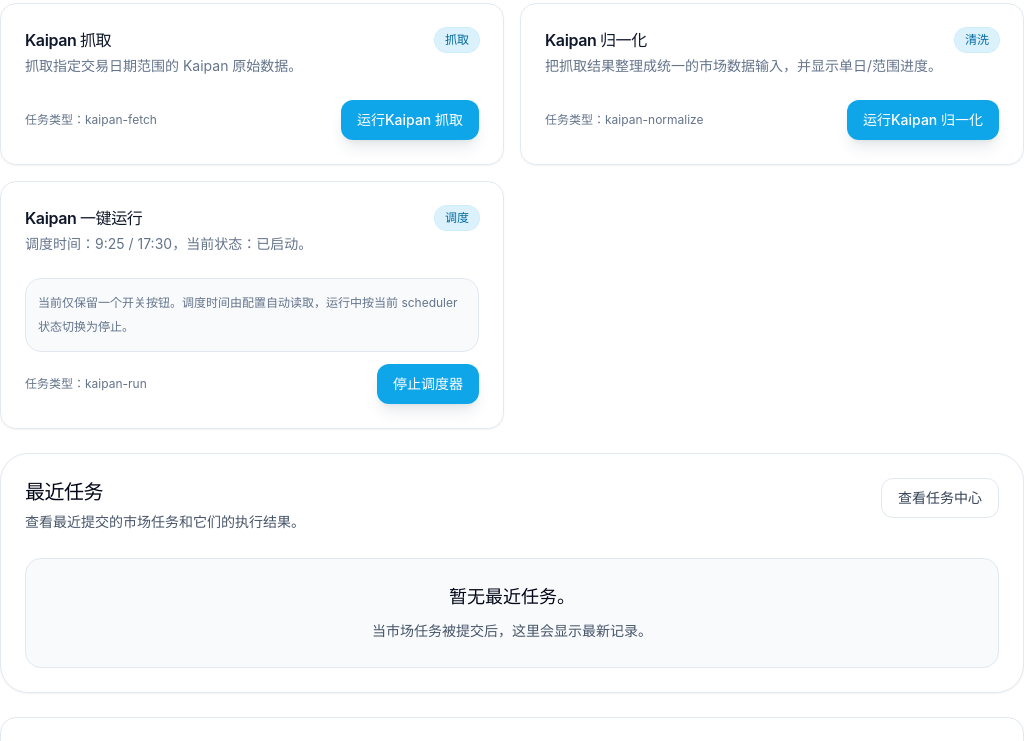
MarketWorkspaceShell › renders the kaipan scheduler stop state and can stop scheduler
(page scrolled)
Click the button "停止调度器" at (428, 384), box [377,364,479,404]
(page scrolled)
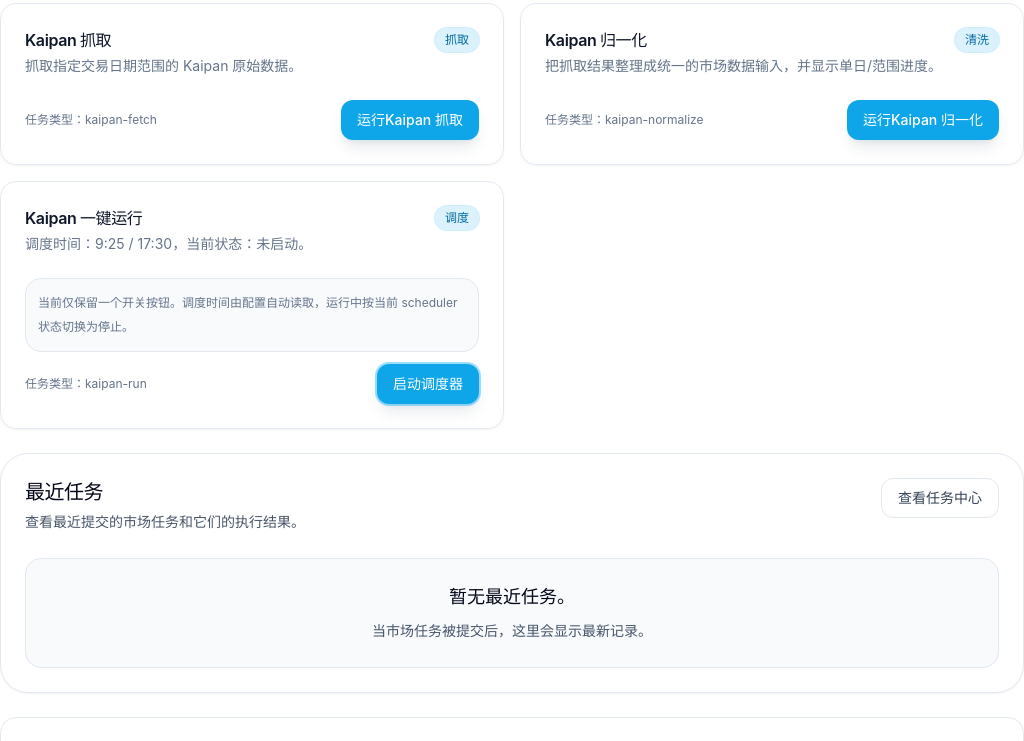
Expected: the button "启动调度器" is shown, [377,364,479,404]
